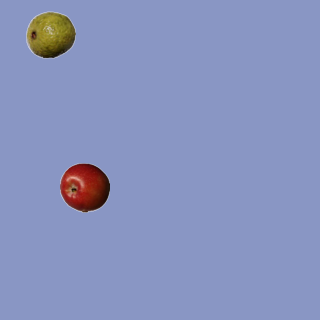Apple Braeburn: (59, 162, 109, 212)
Guava: (25, 9, 75, 59)
